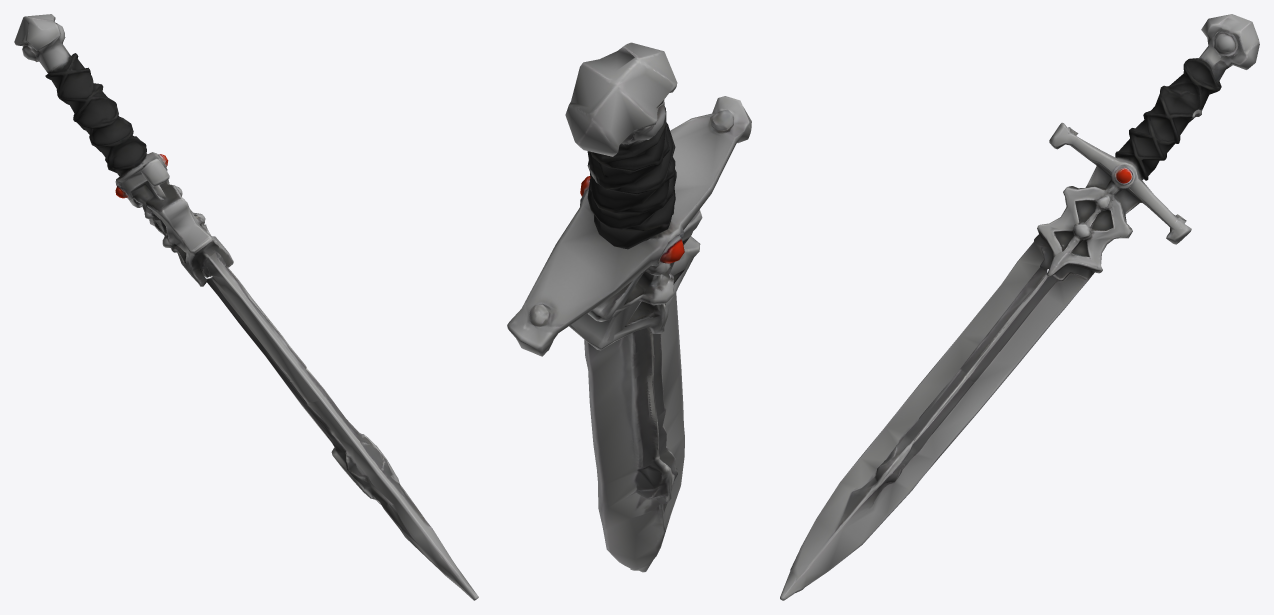
3 renders of one model, left to right at view 1: azimuth 30°, elevation 25°; view 2: azimuth 150°, elevation 25°; view 3: azimuth 270°, elevation 25°, orthographic. The views are drawn at different scales.
Parts seen in each view (by area): view 1: tripo_node_f452fd99-087d-46d1-90da-2a3e525cb0b3; view 2: tripo_node_f452fd99-087d-46d1-90da-2a3e525cb0b3; view 3: tripo_node_f452fd99-087d-46d1-90da-2a3e525cb0b3.
Boxes of the visible parts, x1,y1,x2,y2 form: tripo_node_f452fd99-087d-46d1-90da-2a3e525cb0b3: (14, 14, 478, 600); tripo_node_f452fd99-087d-46d1-90da-2a3e525cb0b3: (507, 42, 751, 572); tripo_node_f452fd99-087d-46d1-90da-2a3e525cb0b3: (780, 14, 1259, 600).
Bounding box in the file's own units: 0.5245 × 1 × 0.91.
1 material, 1 textured.
